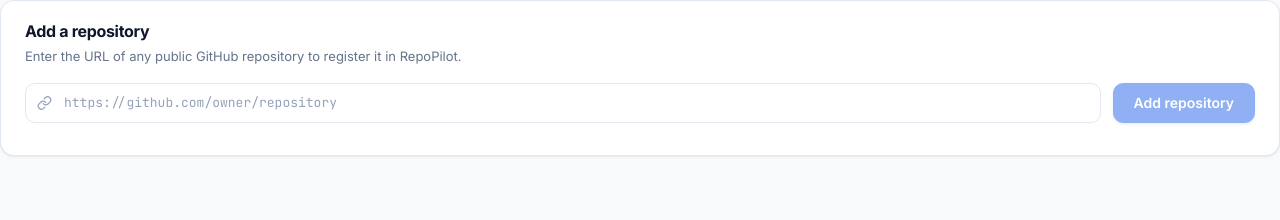
AddRepoForm › shows client error when submitted with non-GitHub URL
Type "https://gitlab.com/owner/repo" into the field named "GitHub repository URL" at x=563, y=103, box [25,83,1100,123]
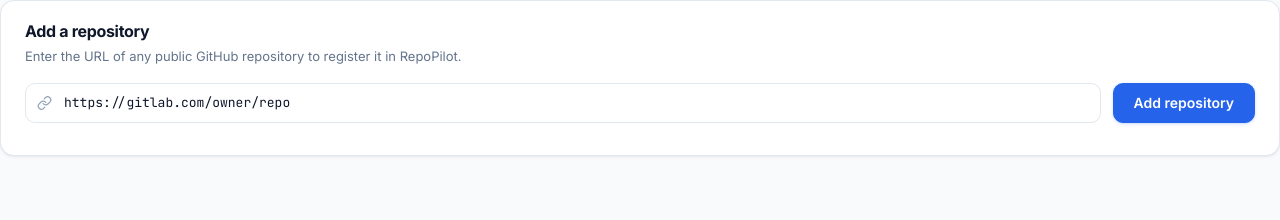
Submit the form named "Add repository form", box [25,83,1255,123]
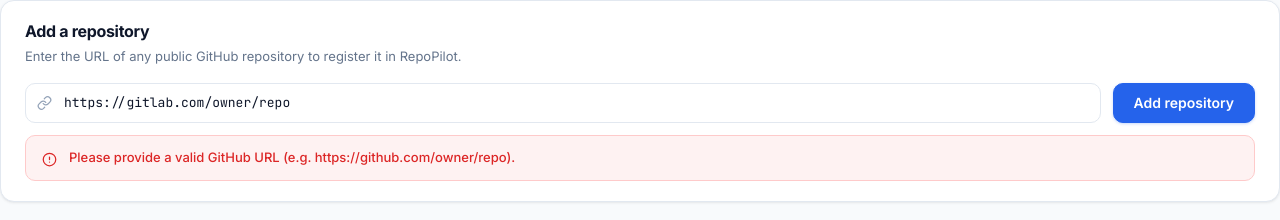
Expected: the text "Please provide a valid GitHub URL (e.g. https://github.com/owner/repo)." is shown, [25,135,1255,181]
